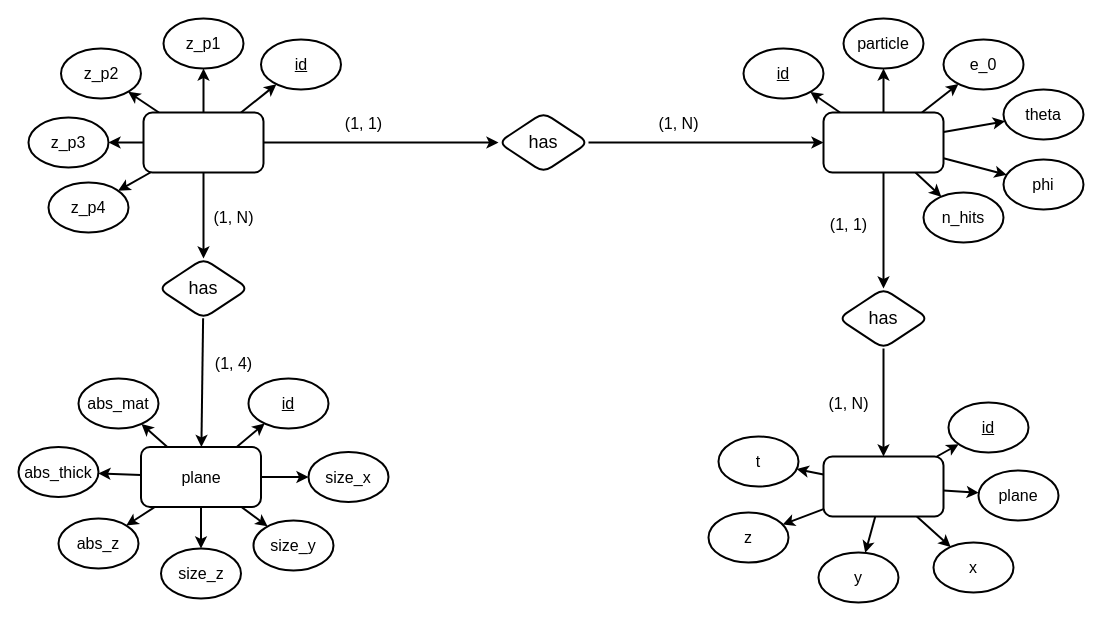
The diagram is 1101 pixels wide and 620 high, and some of its shapes have lost their labels. The centre of each missing label's shape, as x and y in pixels:
config: (x=203, y=142)
event: (x=883, y=142)
hit: (x=883, y=486)
